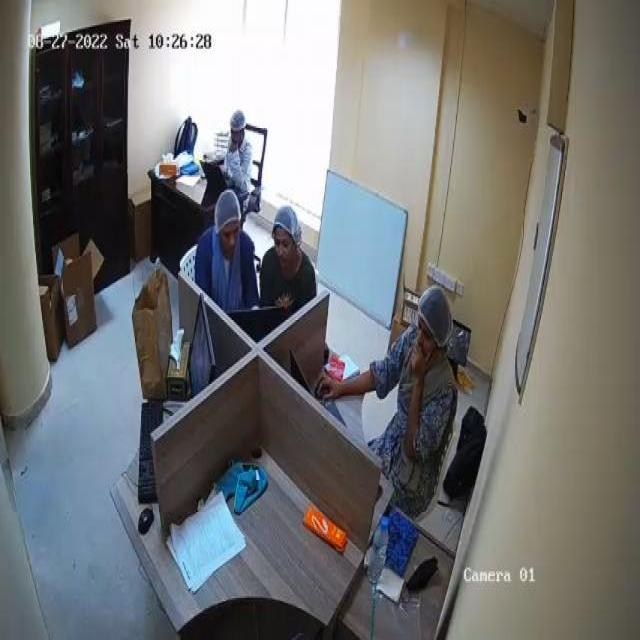hairnet: (422, 287, 458, 342), (215, 188, 241, 224), (276, 206, 302, 231), (230, 105, 247, 132)
